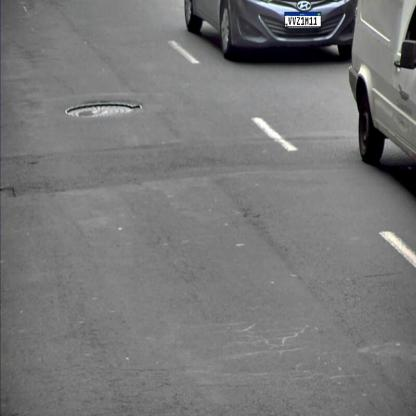PlacaM: (284, 12, 322, 27)
